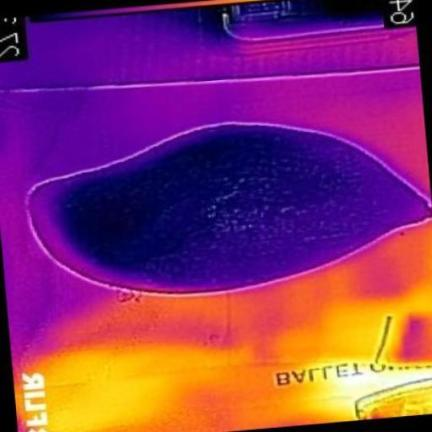mango: (31, 124, 432, 293)
